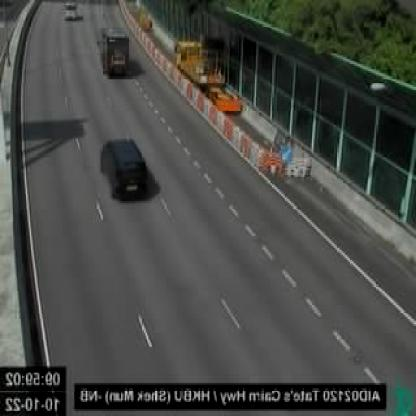Car: (99, 136, 149, 204), (65, 0, 78, 18)
Truck: (99, 25, 132, 79)
